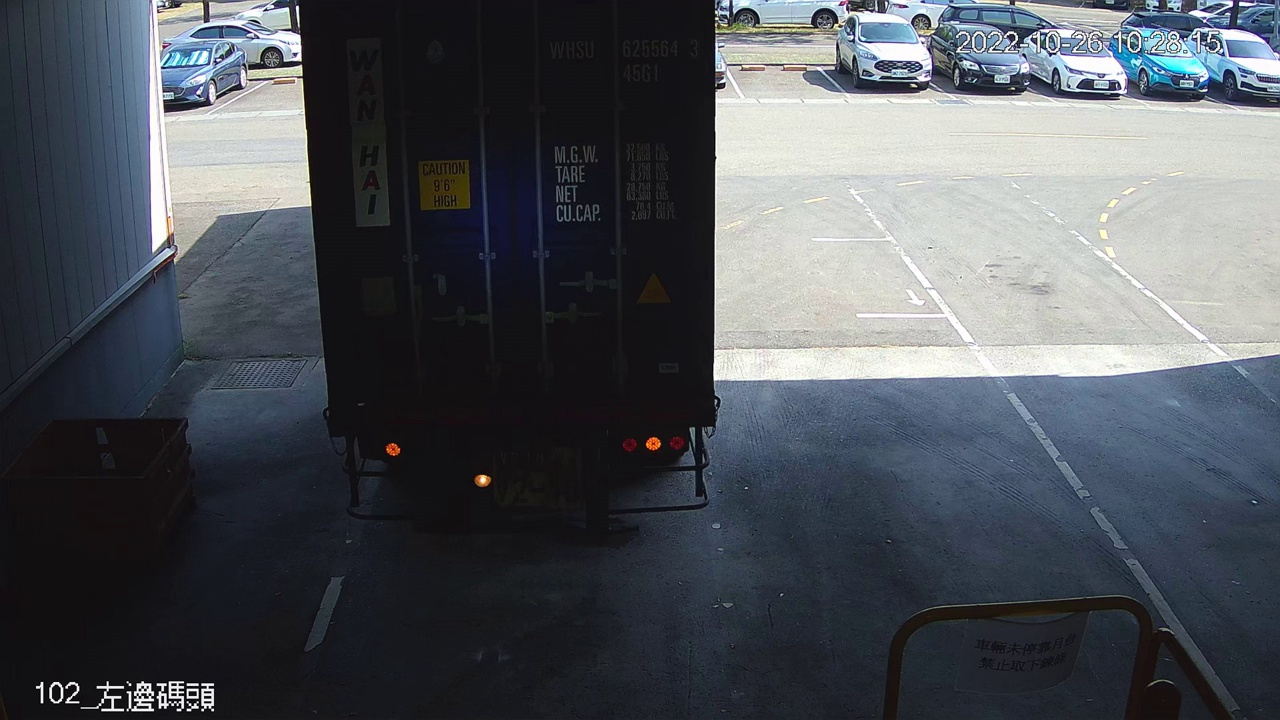container: (543, 30, 705, 89)
